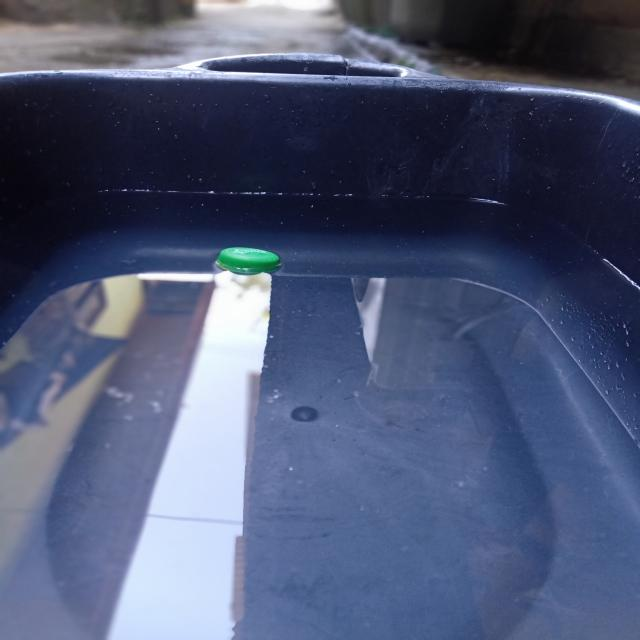Bottle Lid: (214, 232, 290, 286)
